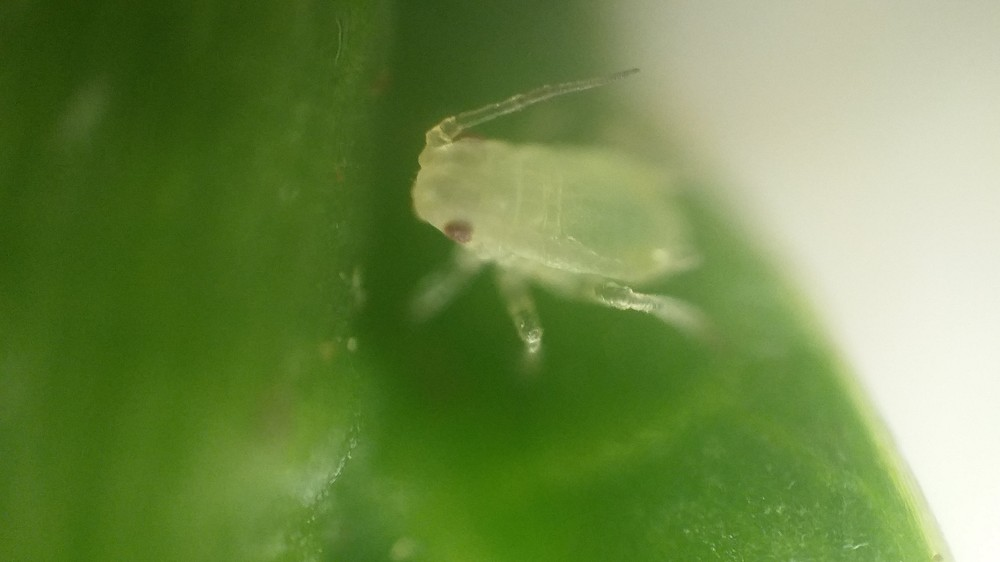Pulgon: (382, 56, 766, 397)
